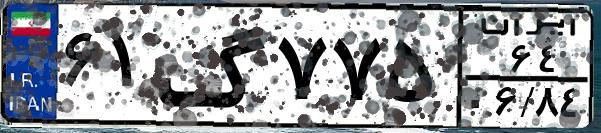0: (470, 70, 495, 125)
1: (110, 28, 156, 98)
4: (560, 70, 590, 125), (537, 27, 568, 80)
5: (385, 28, 445, 110)
6: (57, 26, 110, 100), (508, 27, 537, 80), (495, 70, 520, 125)
7: (270, 28, 330, 110), (330, 28, 385, 110)
8: (535, 70, 560, 125)
گ: (156, 12, 270, 120)
